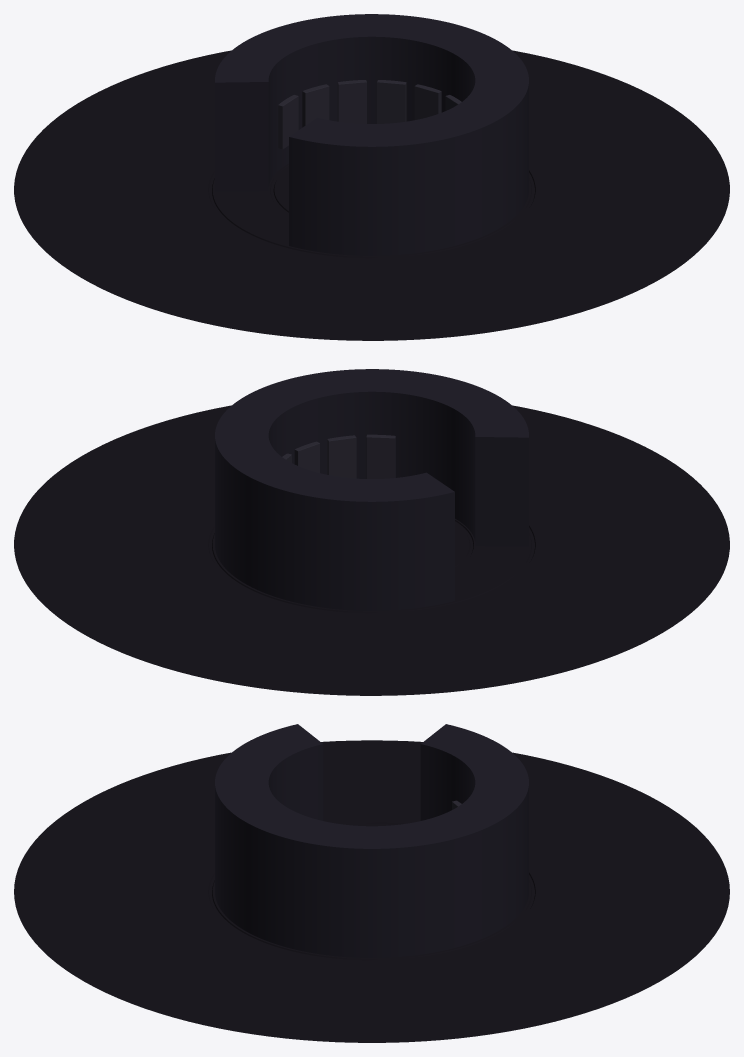
The model's file is 2nd_stage.glb.
3 views of the same model, one above another, from view 1: azimuth 30°, elevation 25°; view 2: azimuth 150°, elevation 25°; view 3: azimuth 270°, elevation 25° (orthographic).
Visible parts, largest first — view 1: Circle, 2nd_stage_platform, 2nd_stage_platform.002; view 2: Circle, 2nd_stage_platform, 2nd_stage_platform.002; view 3: Circle, 2nd_stage_platform.
Boxes of the visible parts, x1,y1,x2,y2 form: Circle: (14,50,729,340); 2nd_stage_platform: (215,14,528,255); 2nd_stage_platform.002: (278,80,461,149); Circle: (14,405,729,695); 2nd_stage_platform: (215,369,528,610); 2nd_stage_platform.002: (282,434,395,478); Circle: (14,740,729,1042); 2nd_stage_platform: (215,724,528,957).
Size of the model in its own units: 27.35 by 4.64 by 27.35.
Materials: 1 (1 with a texture image).
